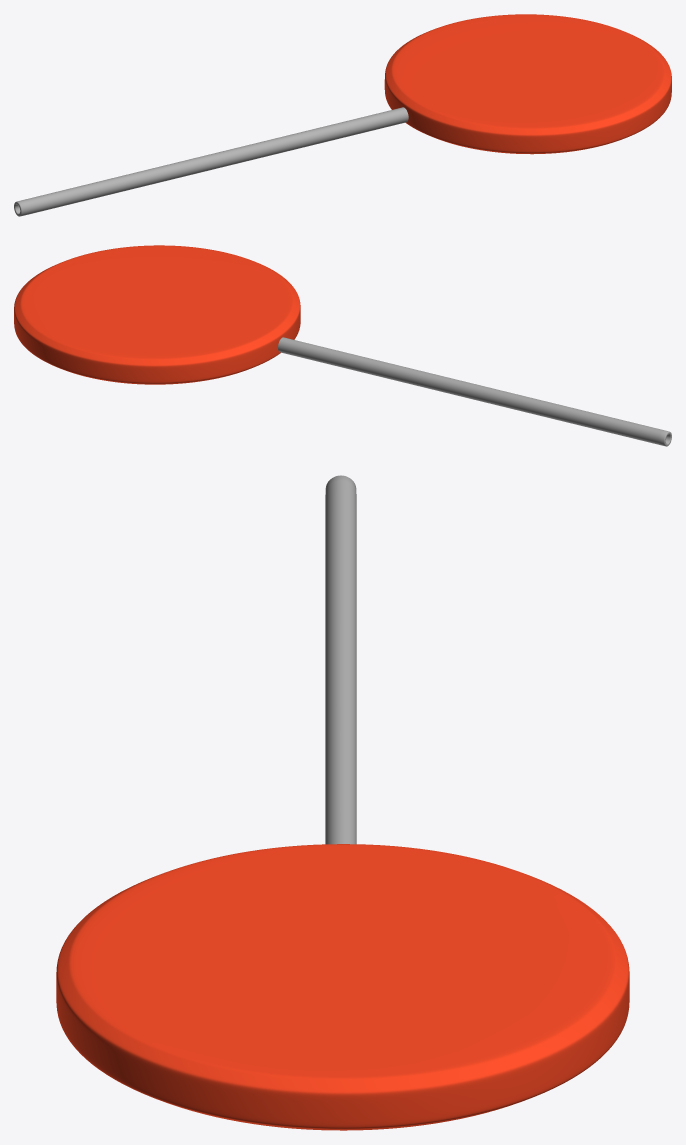
The model's file is Bat_CandyBar.fbx.
3 renders of one model, top to bottom at view 1: azimuth 30°, elevation 25°; view 2: azimuth 150°, elevation 25°; view 3: azimuth 270°, elevation 25°, orthographic. The views are drawn at different scales.
Parts seen in each view (by area): view 1: Candy, Stick; view 2: Candy, Stick; view 3: Candy, Stick.
Boxes of the visible parts, x1=… form: Candy: x1=384, y1=14, x2=671, y2=154; Stick: x1=14, y1=107, x2=408, y2=216; Candy: x1=14, y1=245, x2=300, y2=384; Stick: x1=278, y1=337, x2=671, y2=446; Candy: x1=56, y1=844, x2=629, y2=1130; Stick: x1=325, y1=475, x2=356, y2=844.
Bounding box in the file's own units: 149 × 6.5 × 58.39.
